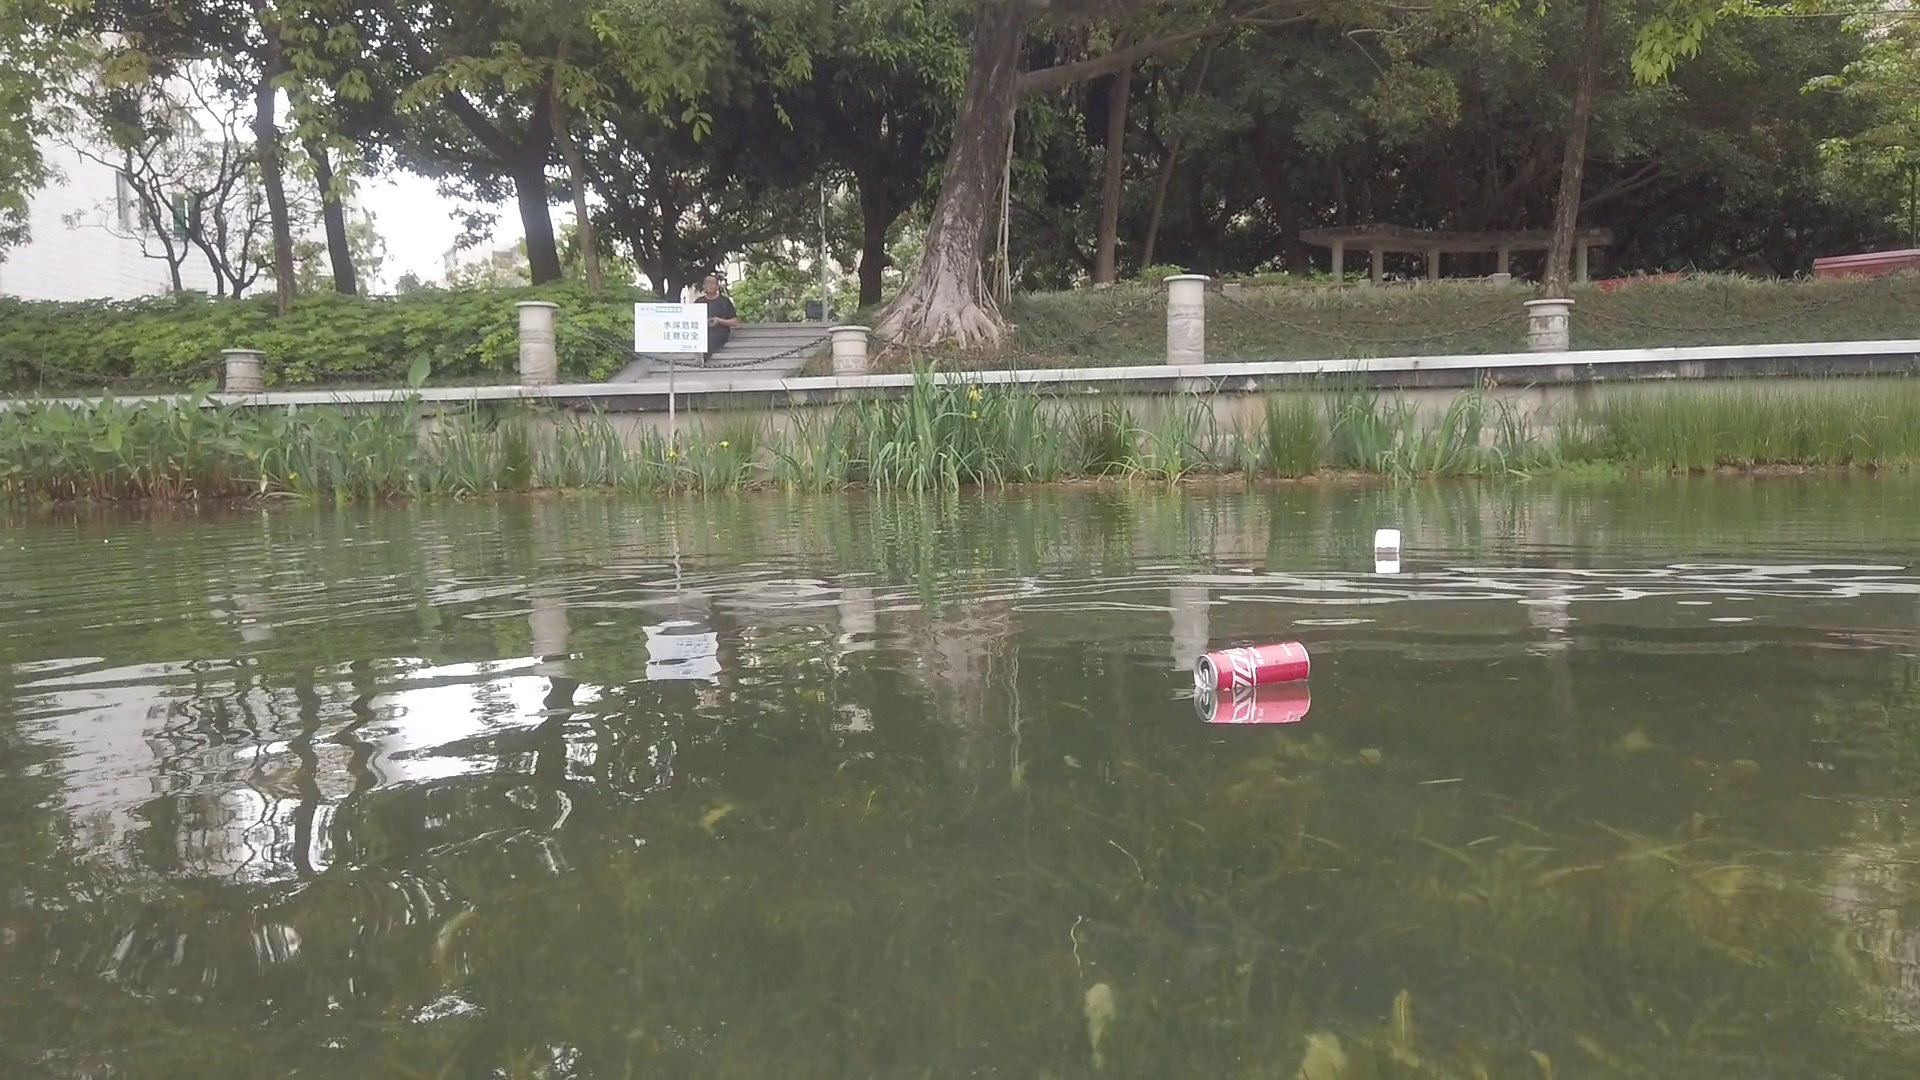bottle: (1193, 646, 1315, 690)
carton: (1375, 525, 1404, 560)
